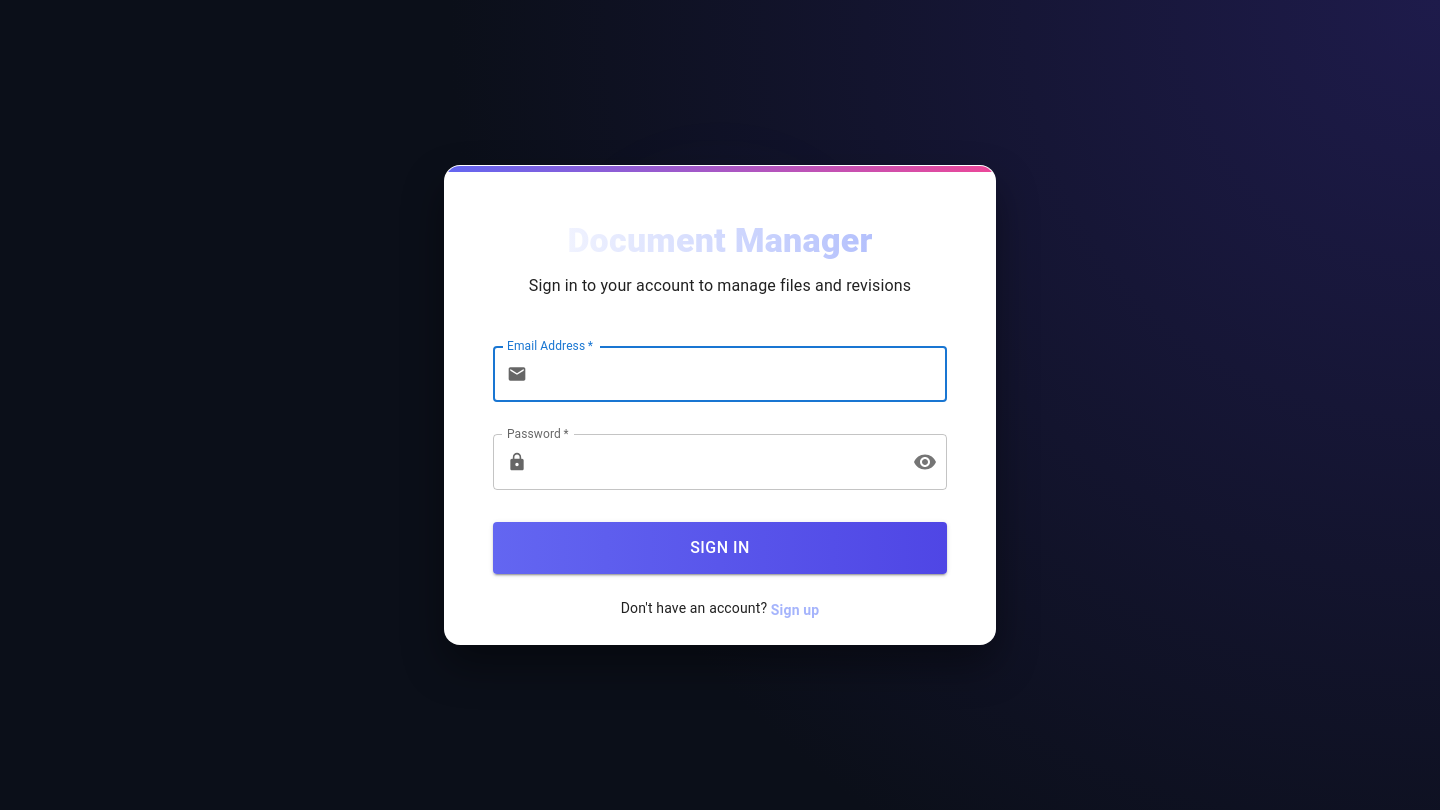
Test: LoginPage › shows validation error when submitting empty fields
What coordinates should you click on to do the following:
click the button "Sign In"
I would click on:
 (720, 548)
Its box is left=493, top=522, right=947, bottom=574.
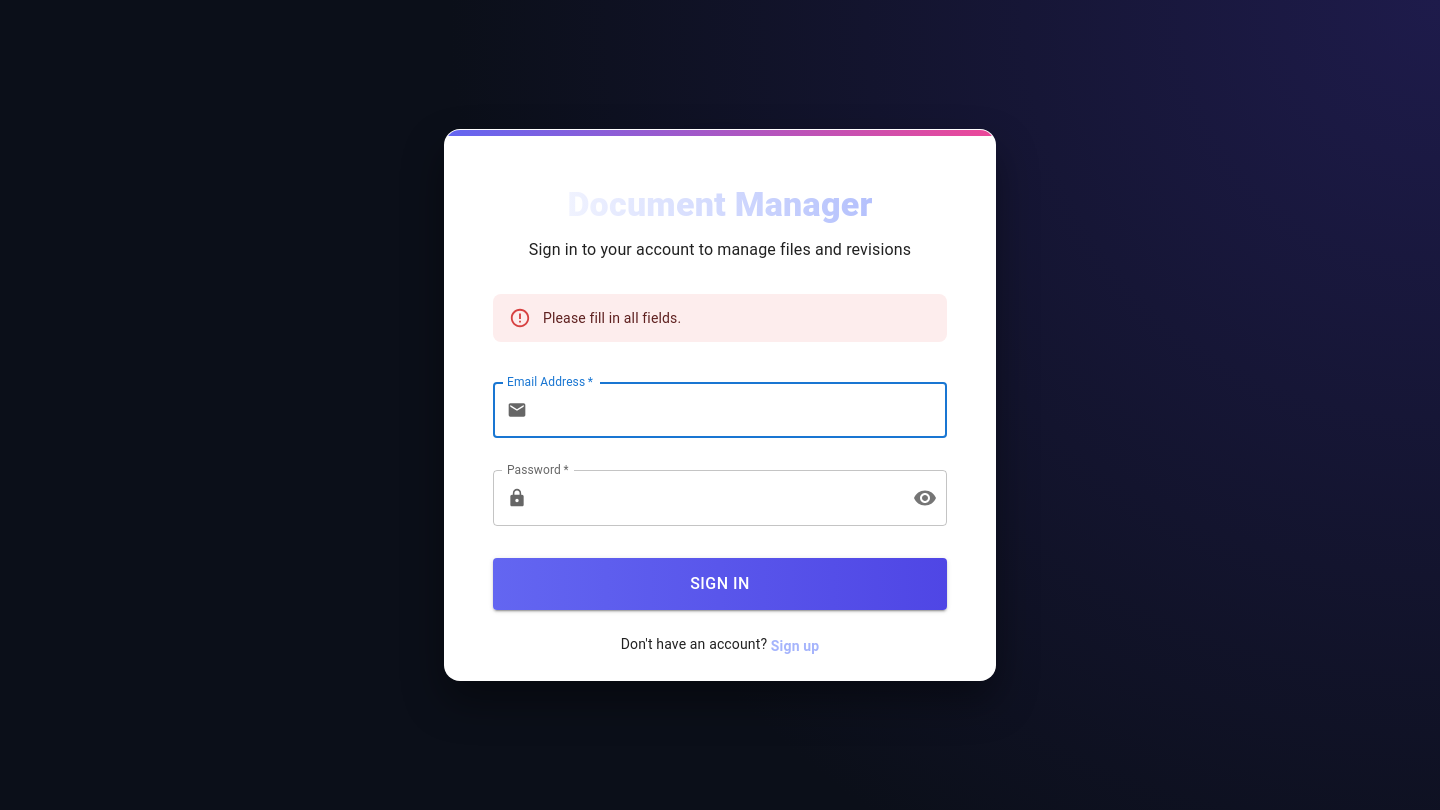
Now the text "Please fill in all fields." is shown, box left=543, top=310, right=681, bottom=326
